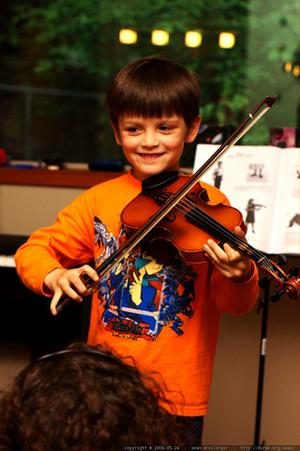person: (16, 57, 260, 451)
